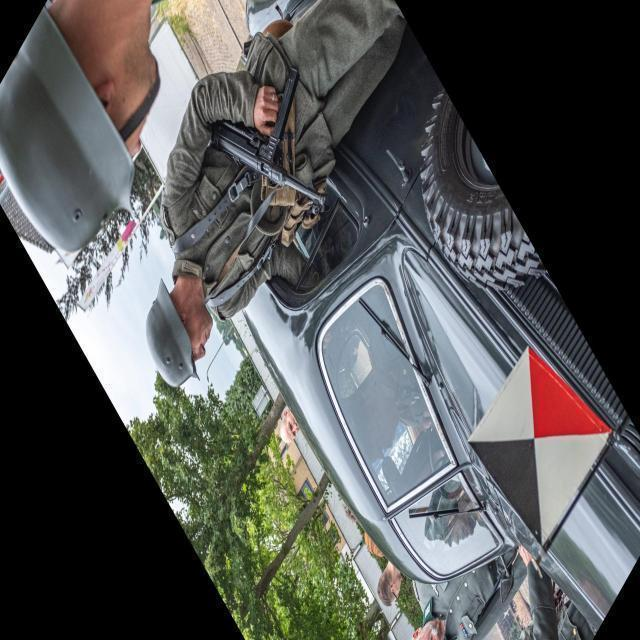Rifle: (210, 68, 327, 215)
